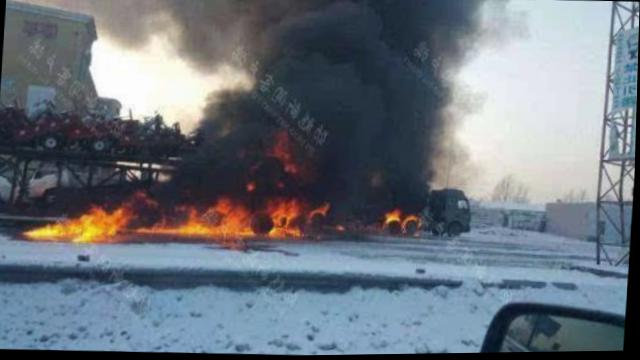fire: (22, 173, 333, 251), (387, 200, 426, 236)
